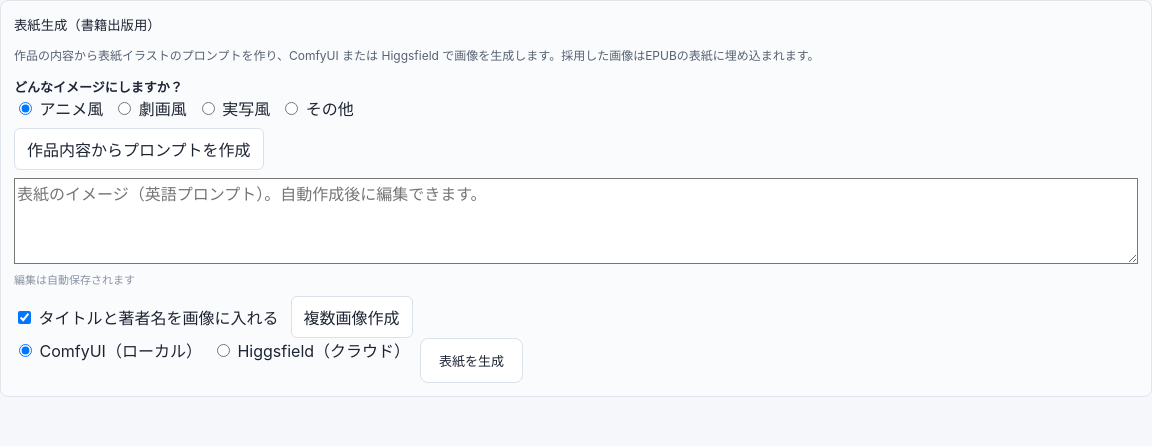
CoverPanel › asks for the user's own look when その他 is chosen
Expected: the field with placeholder "自由に記入" is not shown
Click the radio button labelled "その他" at (292, 109), box x1=285 y1=102 x2=298 y2=115
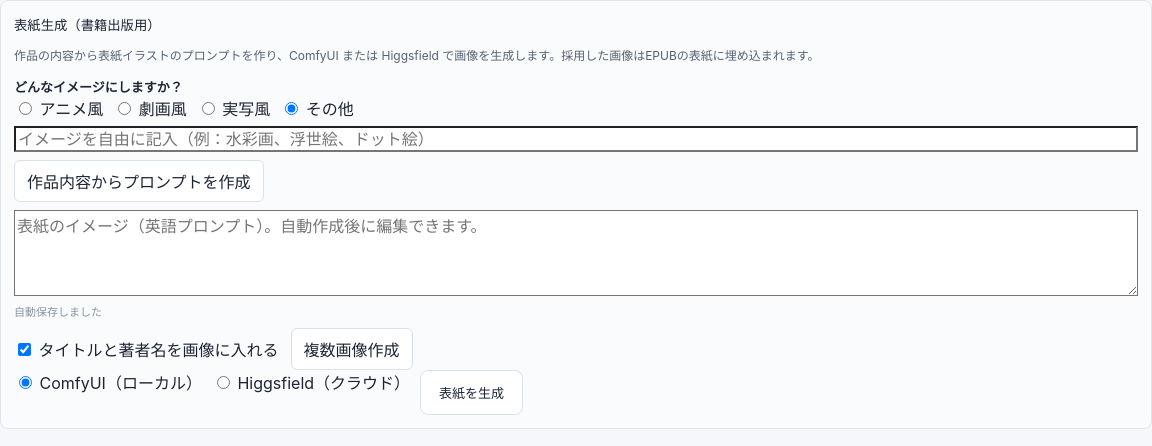
Expected: the field with placeholder "イメージを自由に記入（例：水彩画、浮世絵、ドット絵）" is shown, x1=14 y1=126 x2=1138 y2=152
